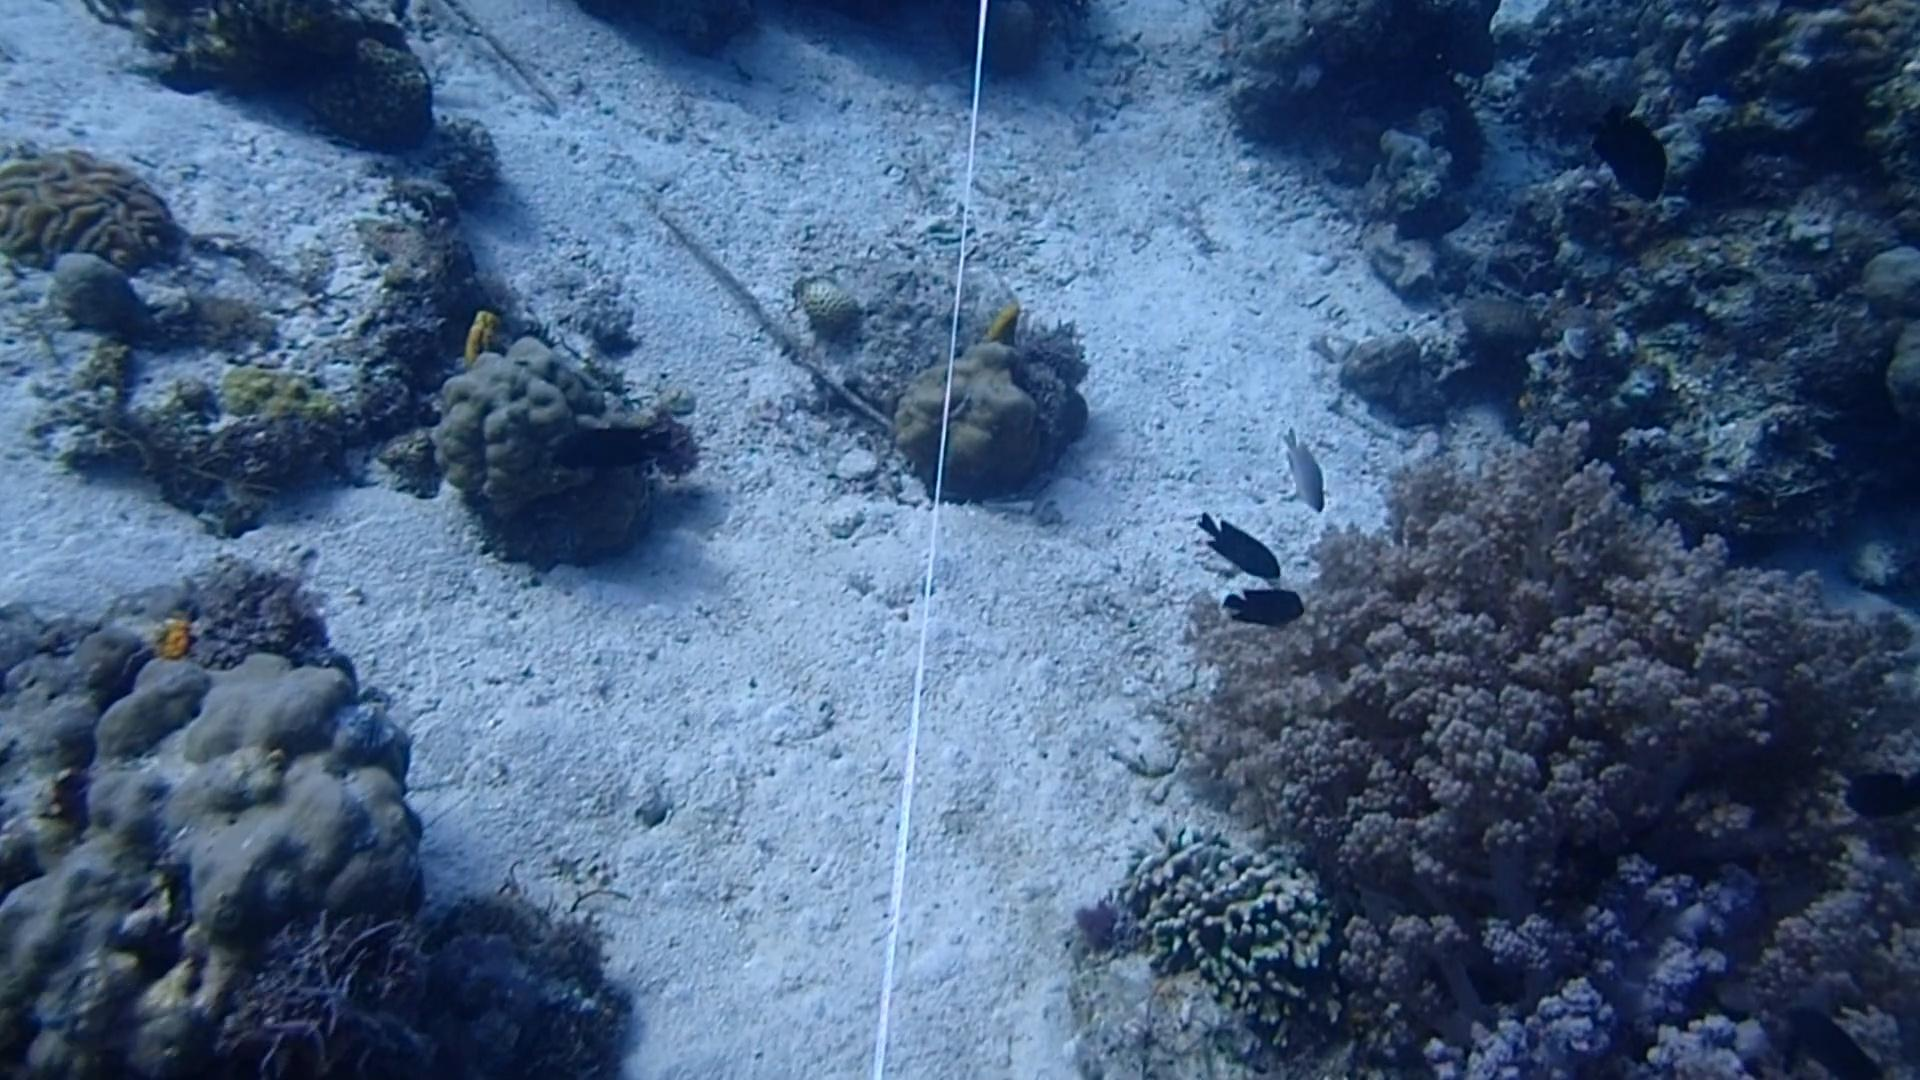Dark Fish: (1586, 88, 1676, 211), (1778, 989, 1890, 1080), (1189, 510, 1292, 583), (541, 415, 670, 472), (1207, 575, 1315, 638), (1834, 766, 1920, 836)
Light Fish: (1270, 417, 1345, 513)
